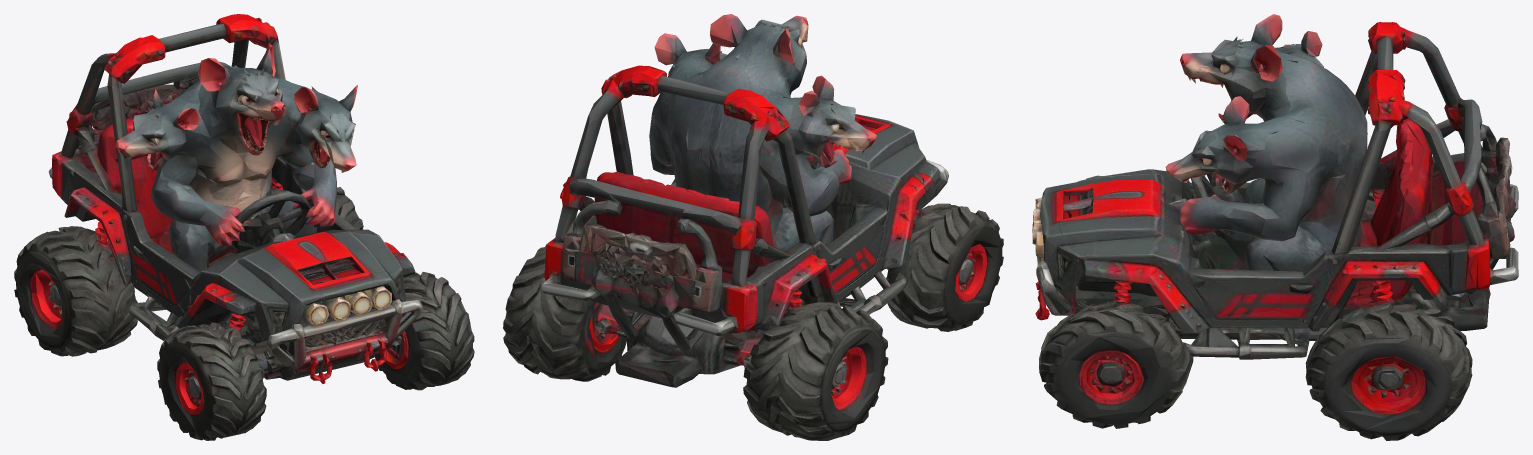
Rendered from cerberus.glb.
The picture shows the model from 3 angles, left to right: view 1: azimuth 30°, elevation 25°; view 2: azimuth 150°, elevation 25°; view 3: azimuth 270°, elevation 25°; orthographic projection. The views are drawn at different scales.
Bounding box in the file's own units: 1.46 × 1.45 × 1.9.
Materials: 1 (1 with a texture image).
